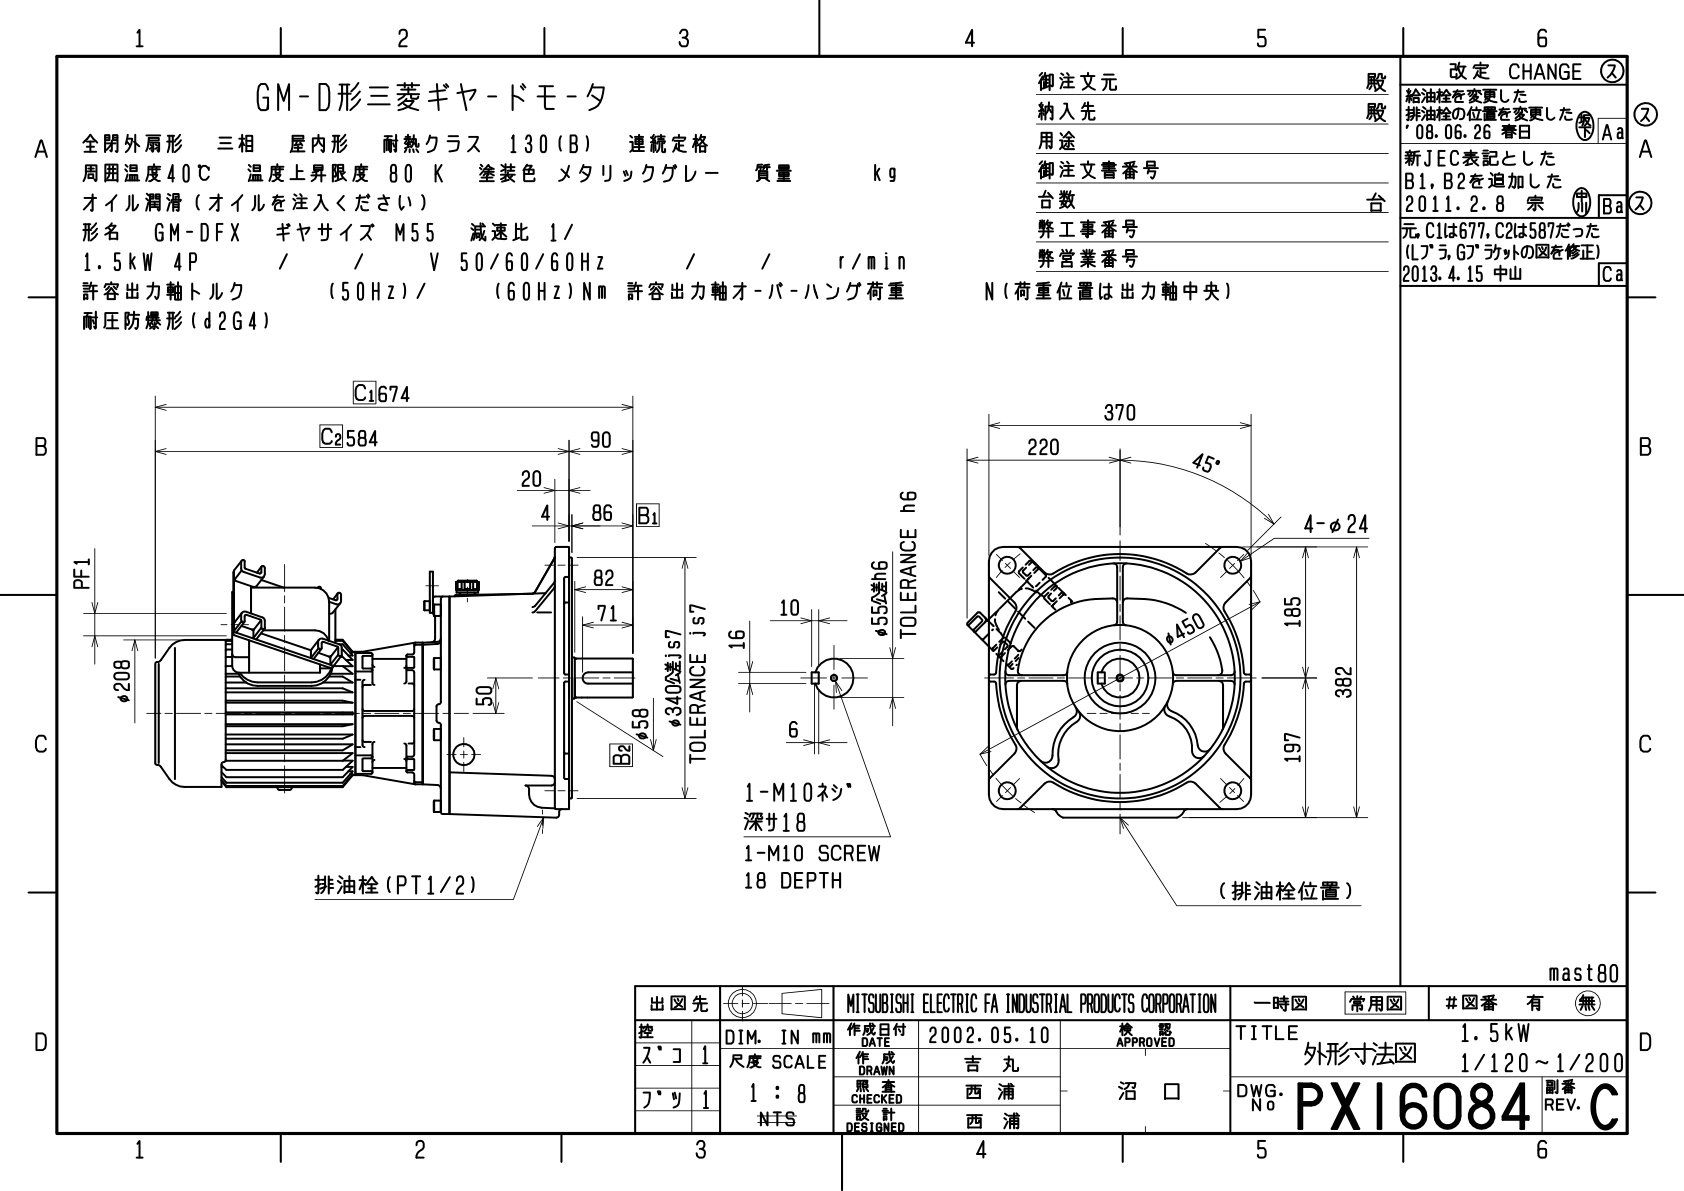GM_SP_屋内＿三相_フランジ: (61, 367, 1389, 945)
